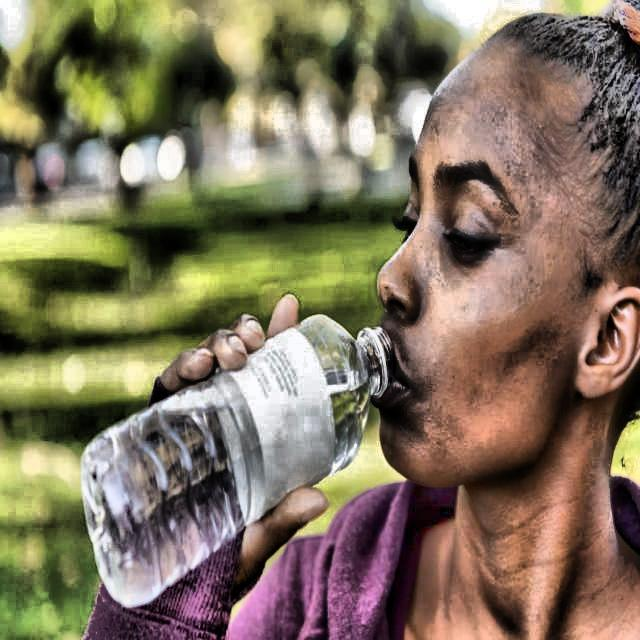plastic bottle: (81, 317, 392, 608)
